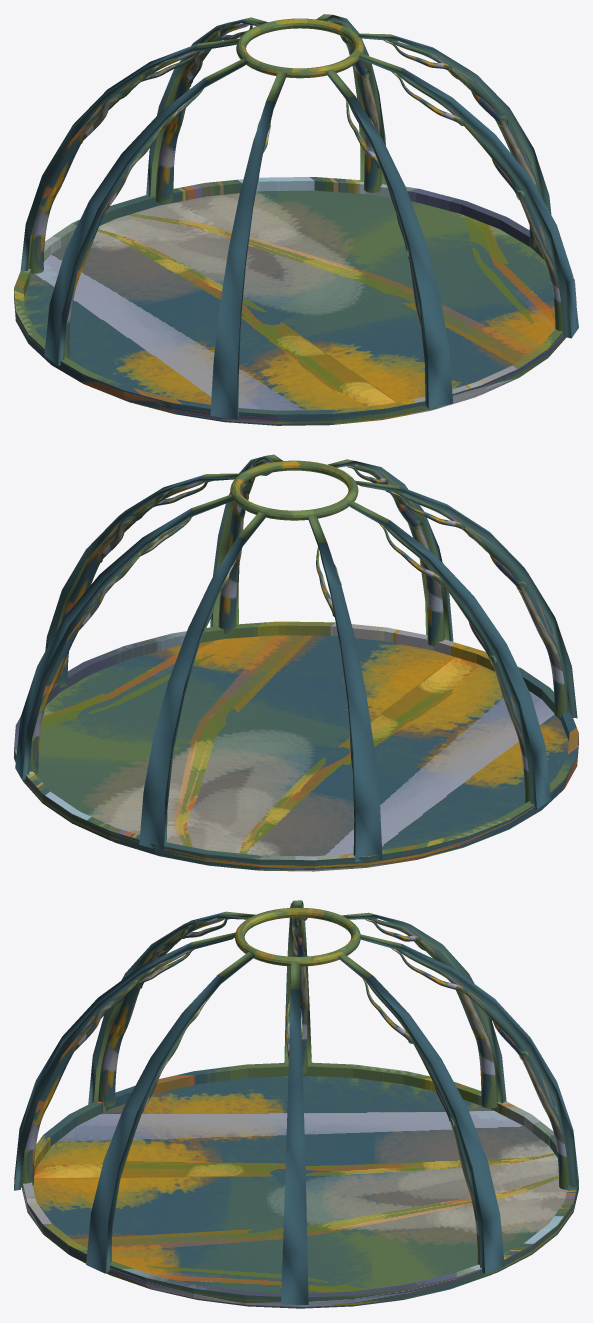
The model's file is LO_dome_struts.glb.
3 renders of one model, top to bottom at view 1: azimuth 30°, elevation 25°; view 2: azimuth 150°, elevation 25°; view 3: azimuth 270°, elevation 25°, orthographic.
Visible parts, largest first — view 1: Cylinder.081, BézierCurve.003, Torus; view 2: Cylinder.081, BézierCurve.003, Torus; view 3: Cylinder.081, BézierCurve.003, Torus.
Boxes of the visible parts, box(x1,y1,x2,y2) form: Cylinder.081: box(14, 177, 576, 425); BézierCurve.003: box(20, 14, 578, 419); Torus: box(236, 18, 363, 78); Cylinder.081: box(14, 621, 578, 871); BézierCurve.003: box(15, 454, 577, 861); Torus: box(230, 460, 358, 520); Cylinder.081: box(22, 1062, 578, 1308); BézierCurve.003: box(14, 900, 578, 1304); Torus: box(235, 907, 360, 966).
Size of the model in its own units: 101 by 52.1 by 101.
Materials: 2 (2 with a texture image).
